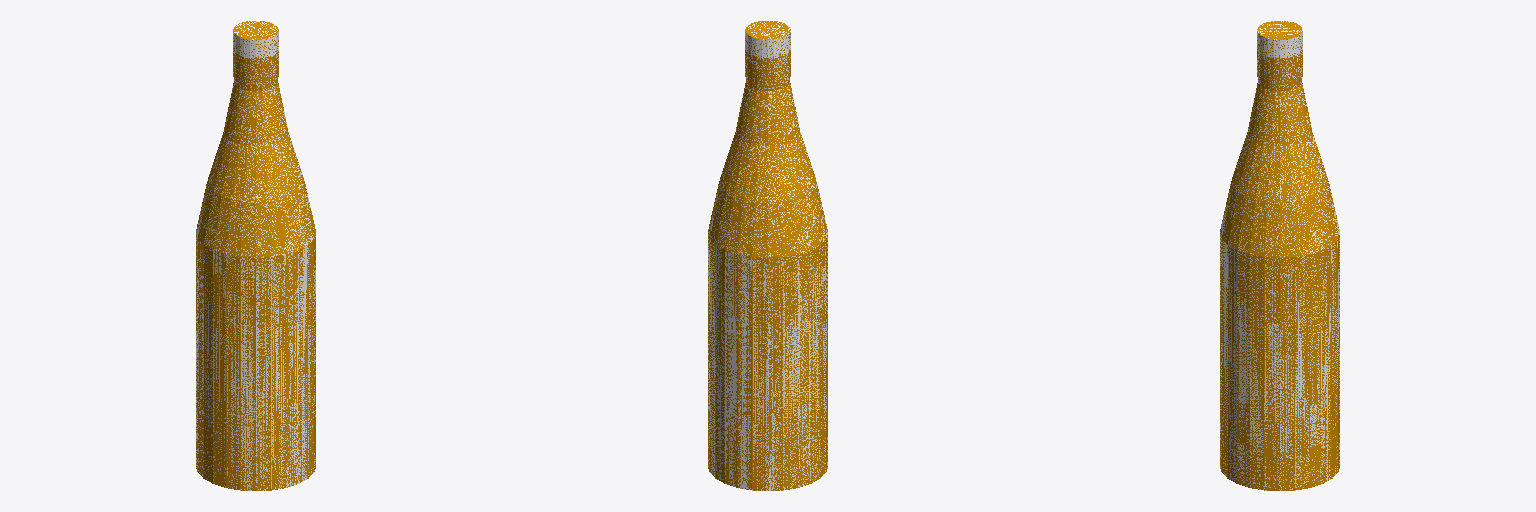
The robot description file, URDF, robot "my_object":
<?xml version="1.0" ?> 
<robot name="my_object" static="true">
  <link name="base_link">
  <inertial>
    <mass value="0.370" />
    <origin xyz="0 0 0.0" />
    <inertia ixx="1.0" ixy="0.0" ixz="0.0" iyy="1.0" iyz="0.0" izz="1.0"/>
  </inertial>
  <visual>
   <origin xyz="0 0 0.0" rpy="0 0 0" />
   <geometry>
     <mesh filename="package://cob_gazebo_objects/Media/models/beer_hofbraeu.dae"/>
   </geometry>
  </visual>
  <collision>
   <origin xyz="0 0 0.13" rpy="0 0 0" />
   <geometry>
     <box size="0.065 0.065 0.26" />
   </geometry>
  </collision>     
  </link>

<gazebo>
	<static>true</static>
</gazebo>
</robot>

--- Facts derived from the render (not from the file) ---
The picture shows the robot from 3 angles, left to right: view 1: azimuth 30°, elevation 25°; view 2: azimuth 150°, elevation 25°; view 3: azimuth 270°, elevation 25°; orthographic projection.
Robot: my_object — 1 links, 0 joints (none); root link base_link; default pose: every joint at zero.
Links seen in each view (by area): view 1: base_link; view 2: base_link; view 3: base_link.
Boxes of the visible links, x1,y1,x2,y2 form: base_link: (196,21,315,490); base_link: (708,21,827,490); base_link: (1220,21,1339,490).
Bounding box of the posed robot: 0.0655 × 0.0655 × 0.261 m (x, y, z).
1 mesh visuals loaded from 1 distinct referenced files (1 Collada DAE).